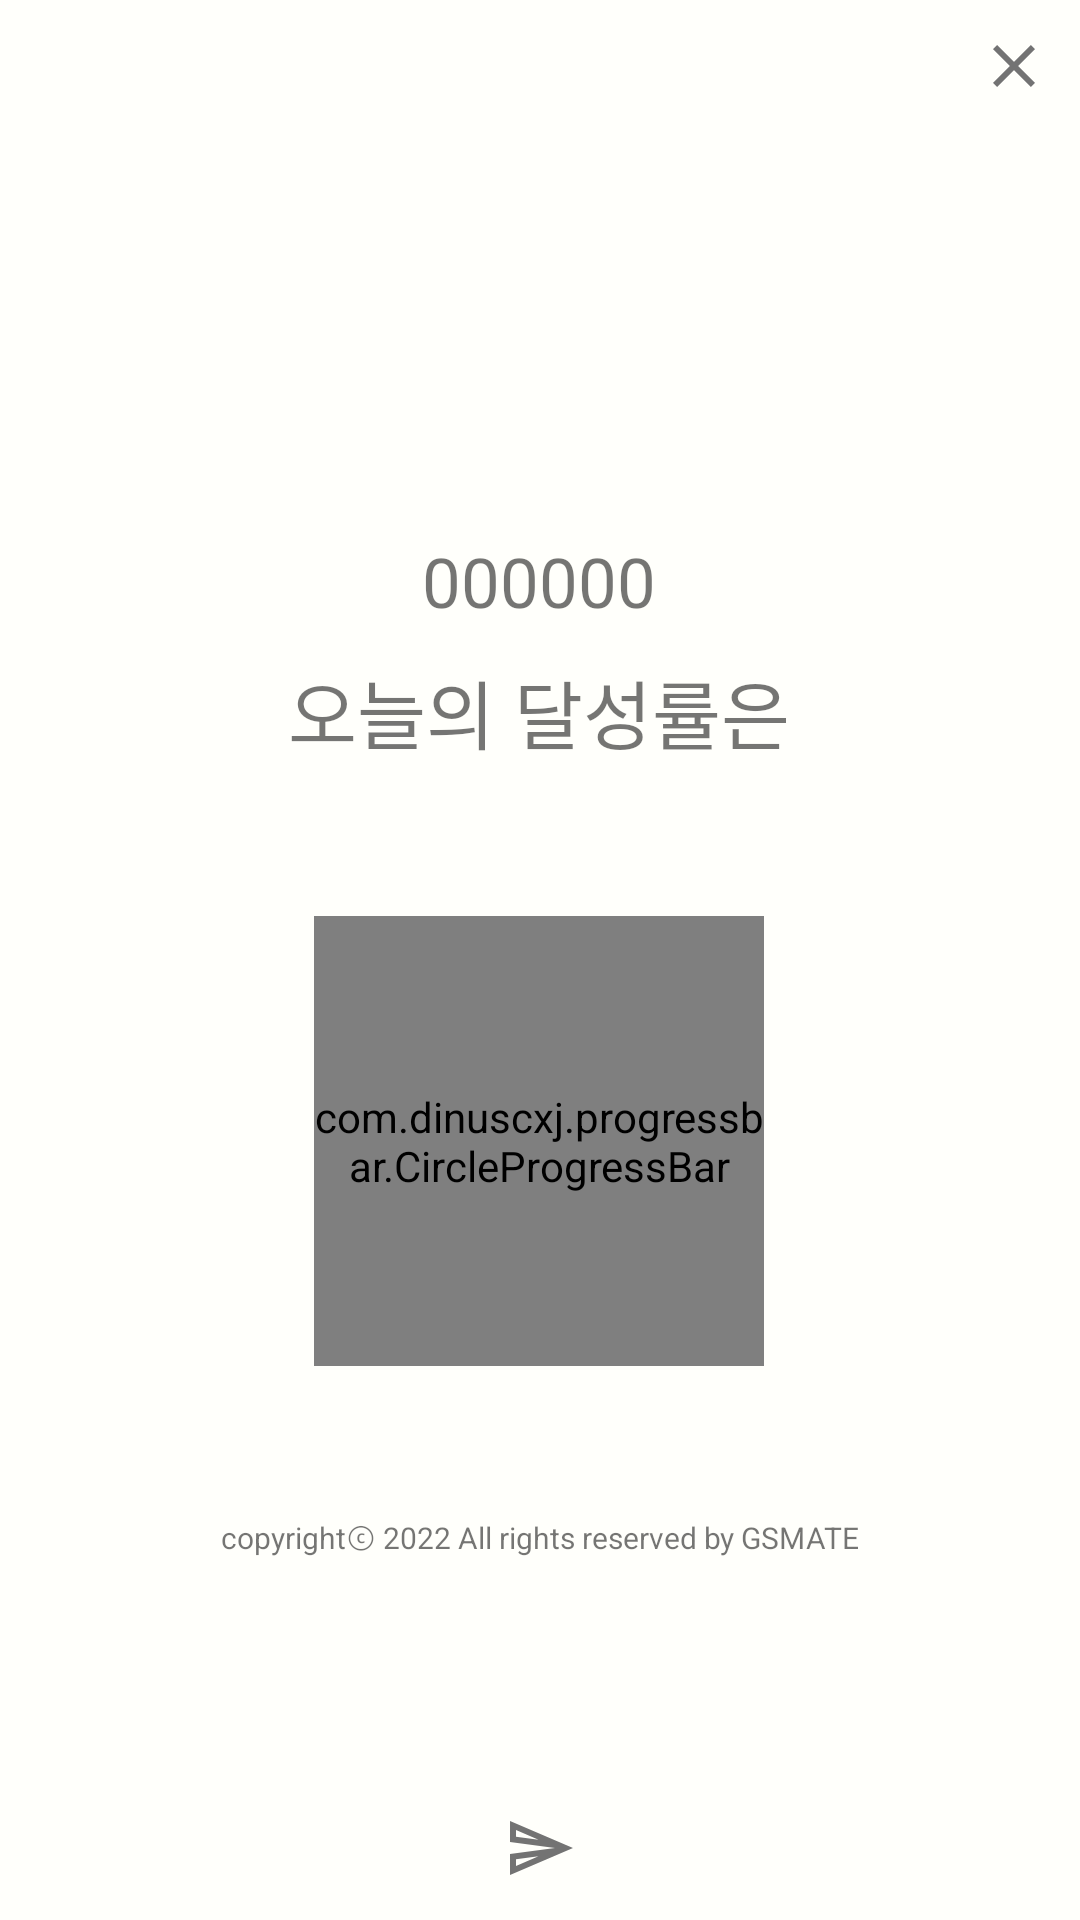

Where to tap for icons on this 1080 x 1920 app screen, as (x,y):
send: (541,1848)
창닫기: (1014,66)
